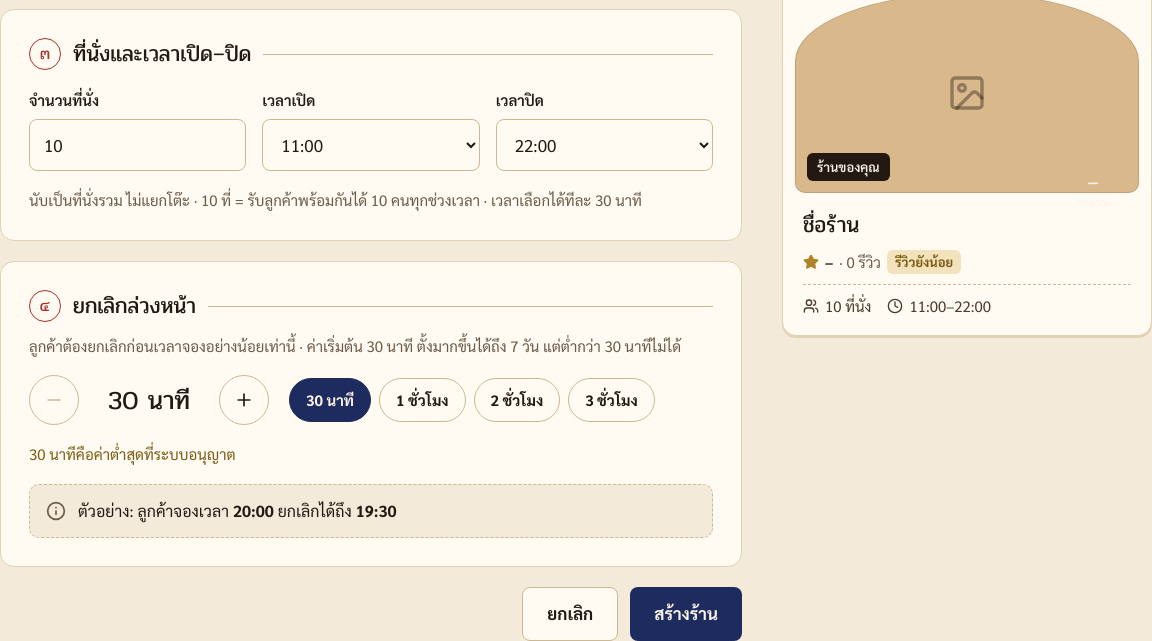
Test: RestaurantForm: สร้างร้าน › เวลายกเลิกล่วงหน้า: ปุ่มลัด + ทีละ 15 นาที + ตัวอย่างเวลา
(page scrolled)
Expected: the button named "ลด 15 นาที" is disabled, [29,375,79,425]
What coordinates should you click on to do the following:
click the button "2 ชั่วโมง"
I would click on:
 (517, 400)
Its box is [474,378,560,422].
(page scrolled)
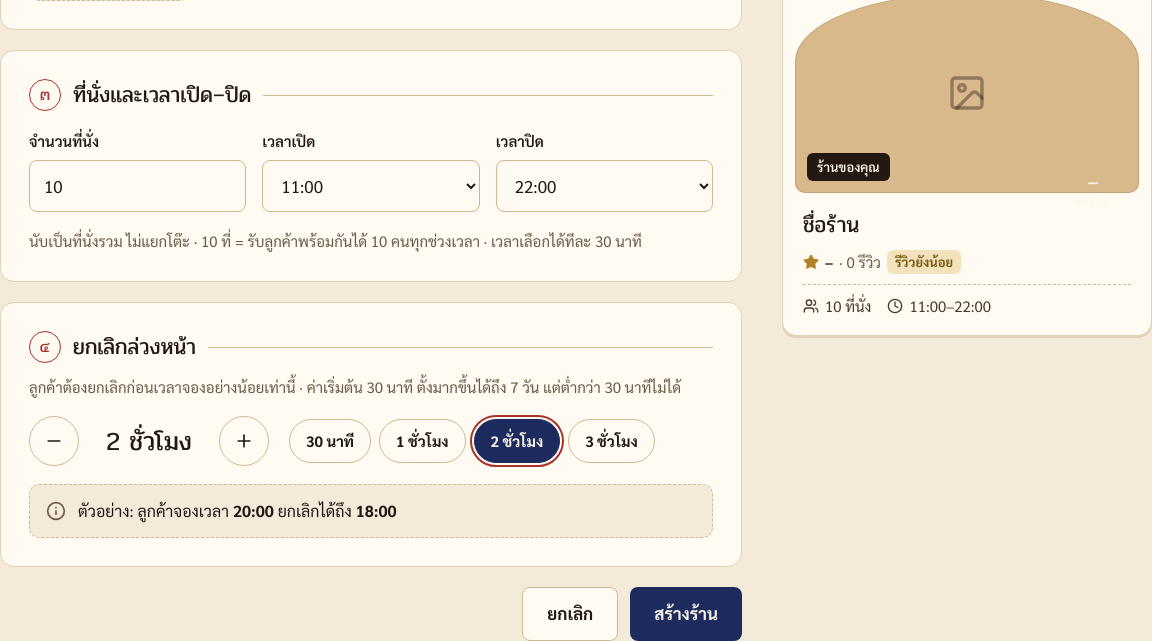
Result: the button "2 ชั่วโมง" is pressed at [474,419,560,463]
What coordinates should you click on to do the following:
click the button named "เพิ่ม 15 นาที"
I would click on:
 (244, 441)
Its box is [219,416,269,466].
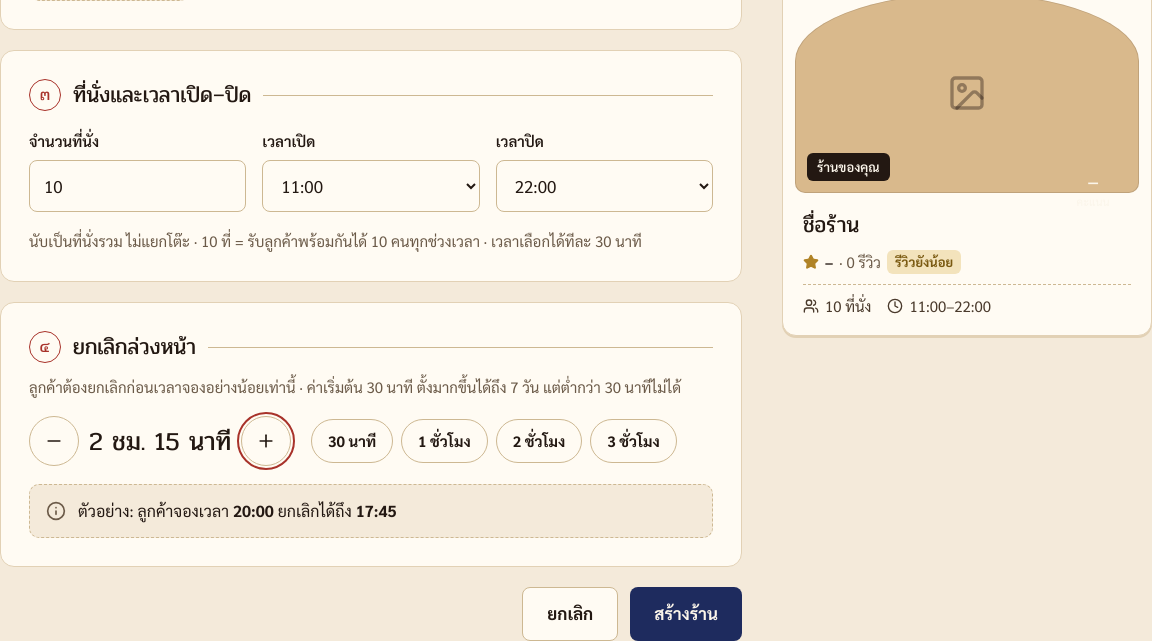
Expected: the text "30 นาทีคือค่าต่ำสุดที่ระบบอนุญาต" is not shown
Result: the text "2 ชม. 15 นาที" is shown at [89,422,231,460]
